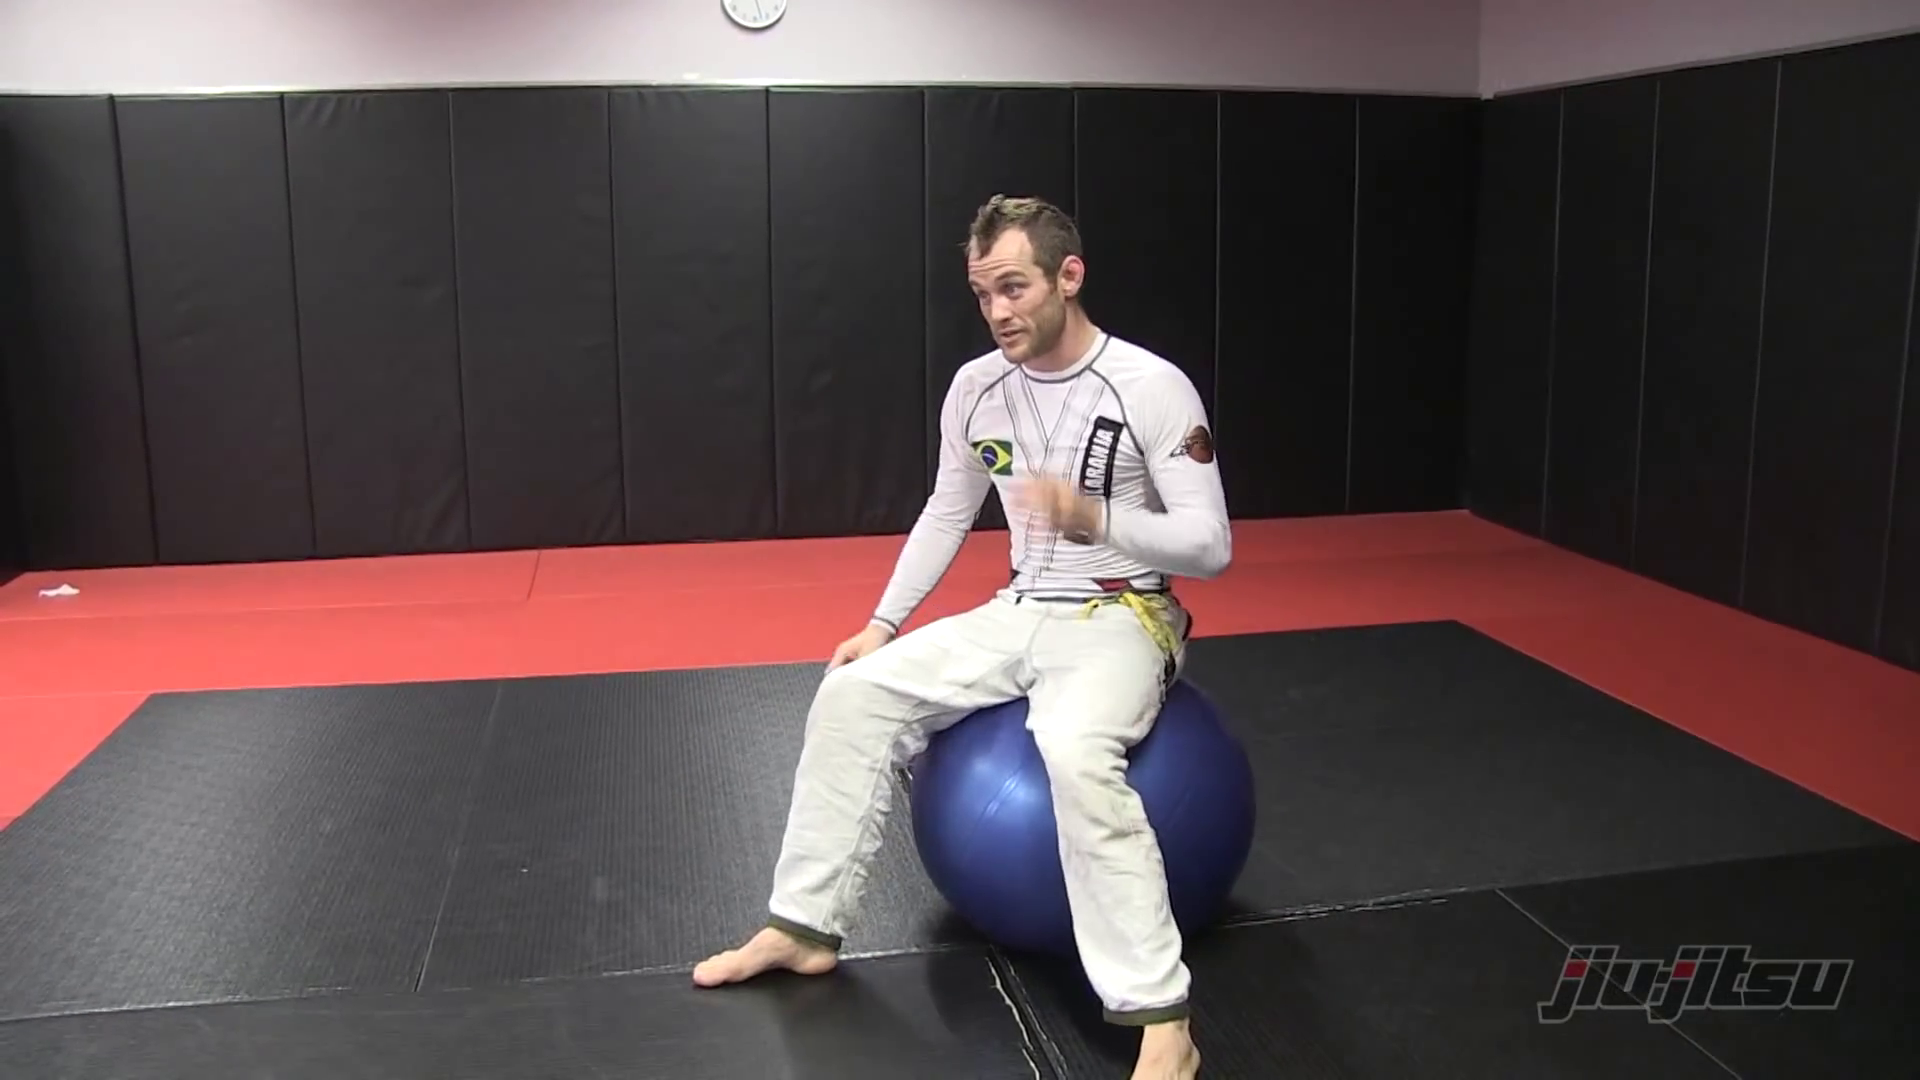yogaball: (903, 662, 1269, 965)
